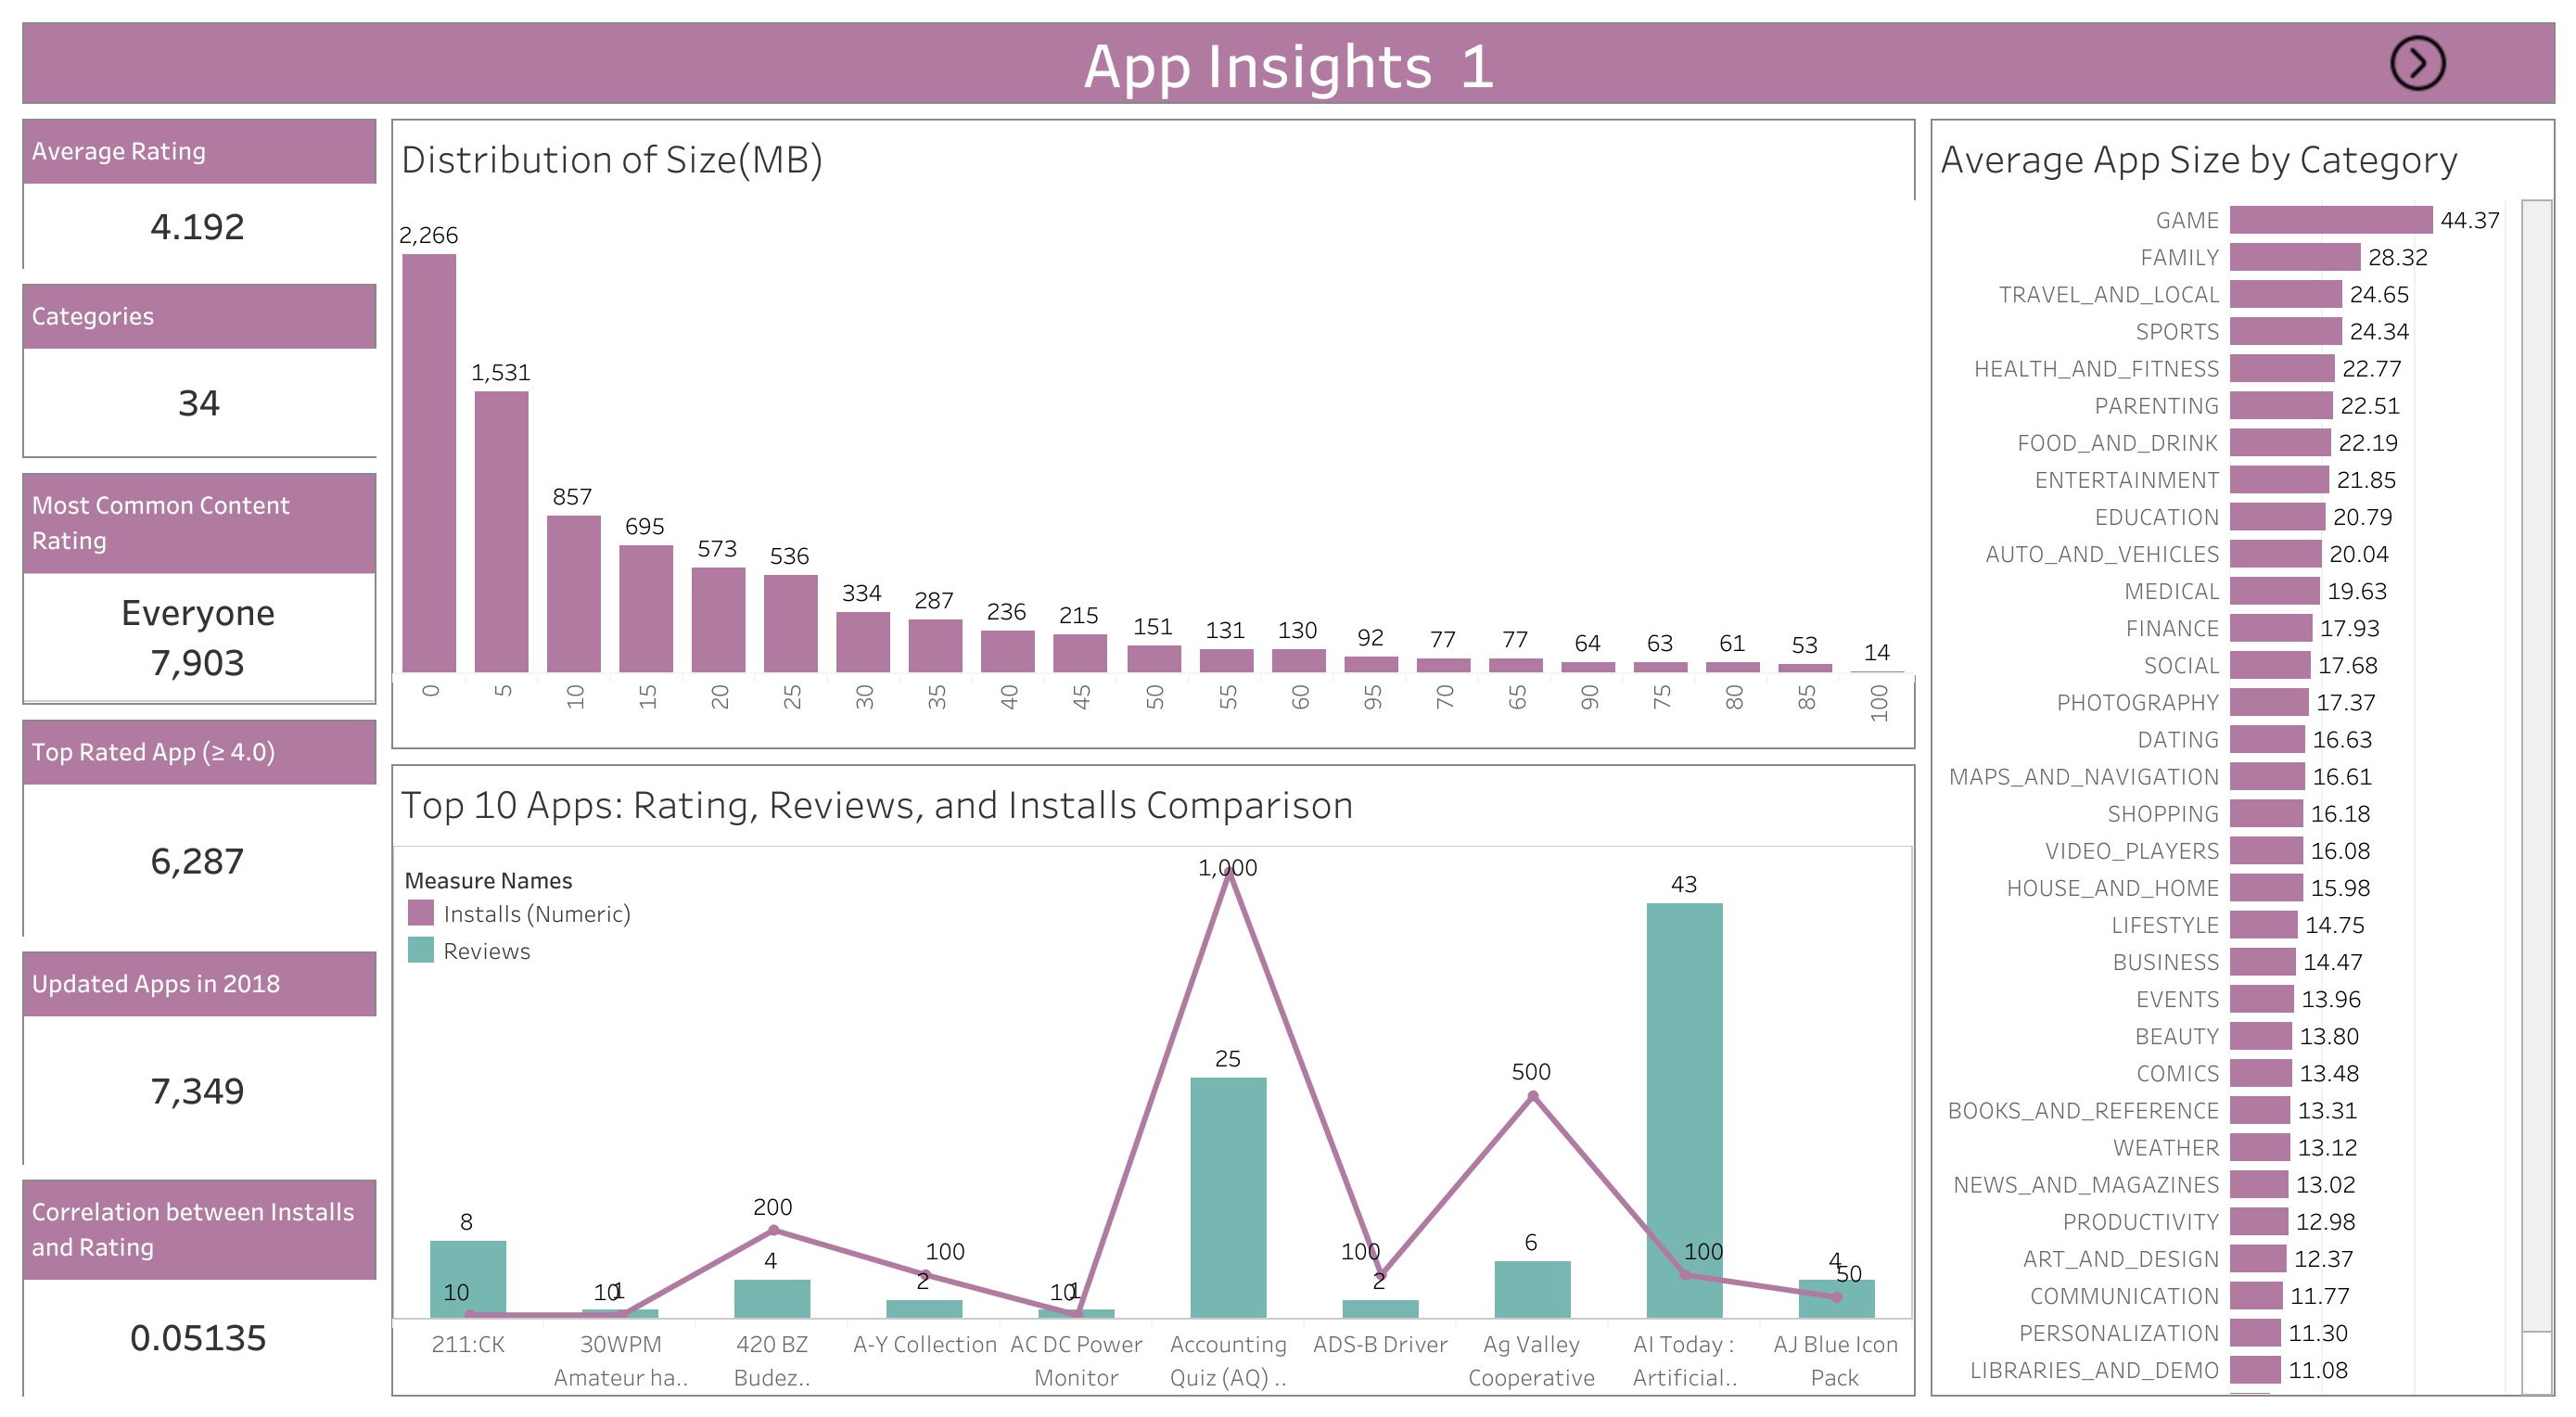

Layout of this report page (visuals, bound fields, positions):
{"tool":"tableau","page":{"name":"App Insights  1","canvas":[1000,1000],"units":"permille","ordinal":1},"visuals":[{"type":"title","box":[6.5,10.4,987,67.7]},{"type":"dashboard-object","box":[897.5,22.1,82.2,44.3]},{"type":"worksheet","title":"Average Rating","mark":"Automatic","box":[6.5,78.1,136.7,115.9]},{"type":"worksheet","title":"Distribution of Size(MB)","mark":"Automatic","rows":["App"],"cols":["Size (Numeric) (bin)"],"box":[143.2,78.1,569.6,455.7]},{"type":"worksheet","title":"Average App Size by Category","mark":"Automatic","rows":["Category"],"cols":["Calculation_5257222508040193"],"box":[712.8,78.1,280.7,911.5]},{"type":"worksheet","title":"Categories","mark":"Automatic","box":[6.5,194,136.7,132.8]},{"type":"worksheet","title":"Most Common Content Rating","mark":"Automatic","rows":["Content Rating"],"box":[6.5,326.8,136.7,173.2]},{"type":"worksheet","title":"Top Rated App (≥ 4.0)","mark":"Automatic","box":[6.5,500,136.7,162.8]},{"type":"worksheet","title":"Top 10 Apps: Rating, Reviews, and Installs Comparison","mark":"Bar","rows":["Reviews","Calculation_5257222506905600"],"cols":["App"],"box":[143.2,533.8,569.6,455.8]},{"type":"legend","title":"Top 10 Apps: Rating, Reviews, and Installs Comparison","param":"[federated.19g0ygl1xo5kff12heh0w1q03fhi].[:Measure Names]","box":[156.2,605.5,113.9,75.5]},{"type":"worksheet","title":"Updated Apps in 2018","mark":"Automatic","box":[6.5,662.8,136.7,163.1]},{"type":"worksheet","title":"Correlation between Installs and Rating","mark":"Automatic","box":[6.5,825.9,136.7,163.7]}]}

Visuals, with their boxes on the dashboard's canvas, which has no fixed pixel size, in thousandths of its width and height (x1, y1, x2, y2). These are canvas units, not pixel positions in the 2576x1417 screenshot, which may show the page scaled, cropped or inside an application window:
title: bbox(6, 10, 994, 78)
dashboard-object: bbox(898, 22, 980, 66)
"Average Rating" worksheet: bbox(6, 78, 143, 194)
"Distribution of Size(MB)" worksheet: bbox(143, 78, 713, 534)
"Average App Size by Category" worksheet: bbox(713, 78, 994, 990)
"Categories" worksheet: bbox(6, 194, 143, 327)
"Most Common Content Rating" worksheet: bbox(6, 327, 143, 500)
"Top Rated App (≥ 4.0)" worksheet: bbox(6, 500, 143, 663)
"Top 10 Apps: Rating, Reviews, and Installs Comparison" worksheet (Bar marks): bbox(143, 534, 713, 990)
"Top 10 Apps: Rating, Reviews, and Installs Comparison" legend: bbox(156, 606, 270, 681)
"Updated Apps in 2018" worksheet: bbox(6, 663, 143, 826)
"Correlation between Installs and Rating" worksheet: bbox(6, 826, 143, 990)
